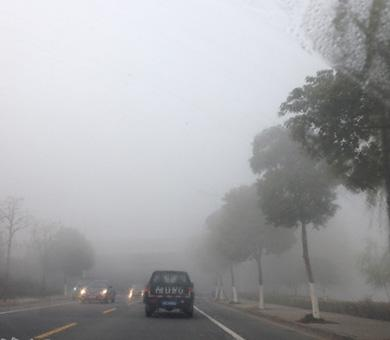car: (141, 269, 195, 318), (80, 278, 115, 304), (71, 279, 97, 301), (128, 282, 150, 300)
